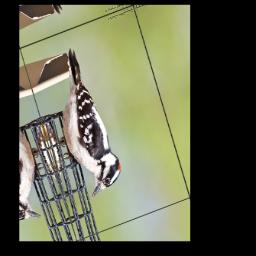Woodpecker: (34, 40, 128, 204)
